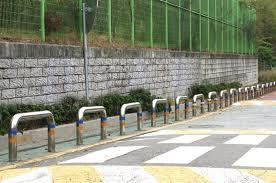Animal: (0, 107, 70, 167), (74, 97, 112, 155), (113, 97, 153, 141), (145, 95, 167, 130), (171, 93, 193, 123), (189, 92, 208, 120), (205, 92, 218, 113)
